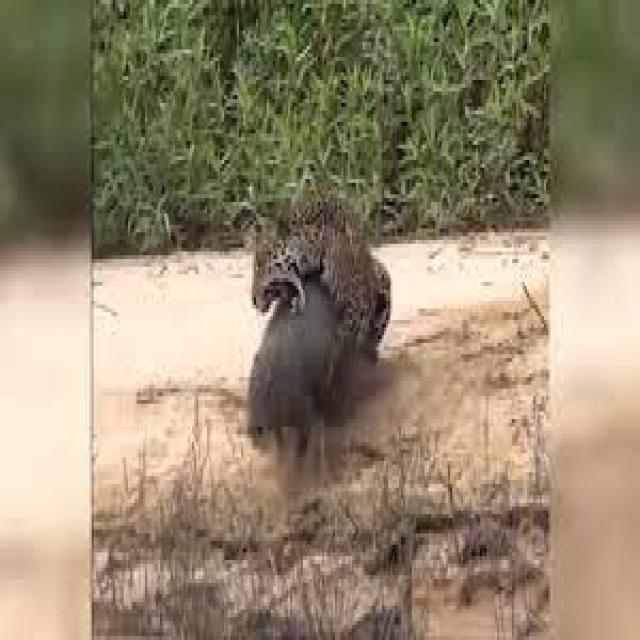capy: (237, 282, 347, 459)
